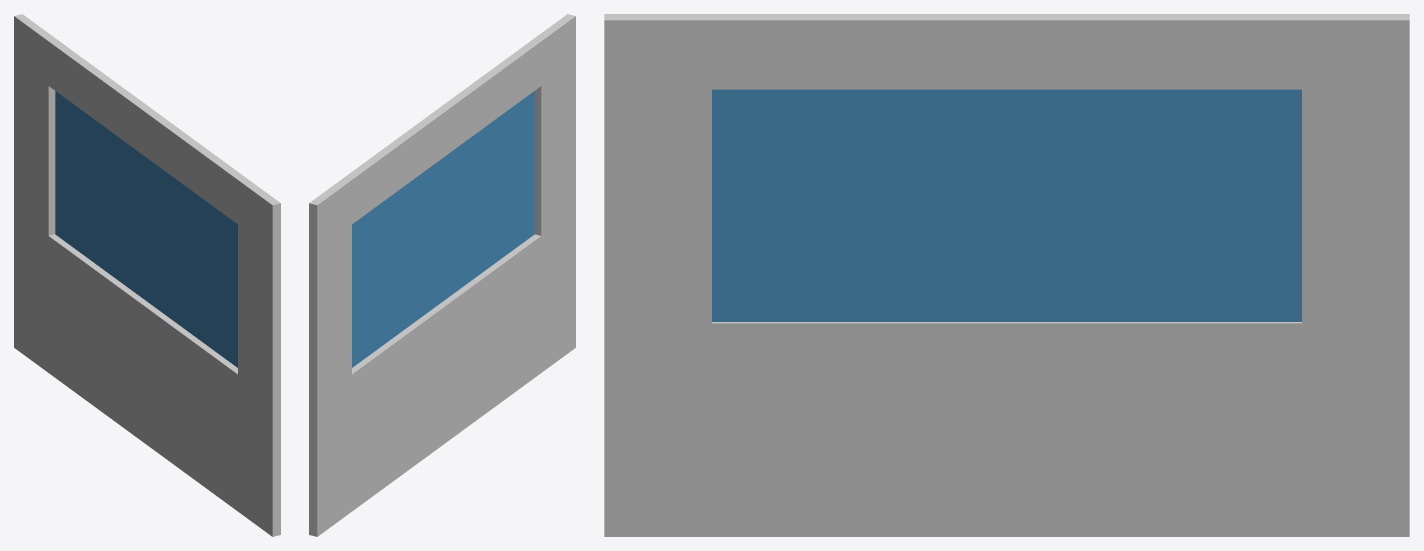
File: WindowWall.fbx
The picture shows the model from 3 angles, left to right: view 1: azimuth 30°, elevation 25°; view 2: azimuth 150°, elevation 25°; view 3: azimuth 270°, elevation 25°; orthographic projection. The views are drawn at different scales.
Parts seen in each view (by area): view 1: Cube.005; view 2: Cube.005; view 3: Cube.005.
Part boxes in pixels (x1,y1,x2,y2): Cube.005: (14, 14, 280, 536); Cube.005: (309, 14, 575, 536); Cube.005: (604, 14, 1409, 536).
Size of the model in its own units: 36.38 by 1379 by 1949.
